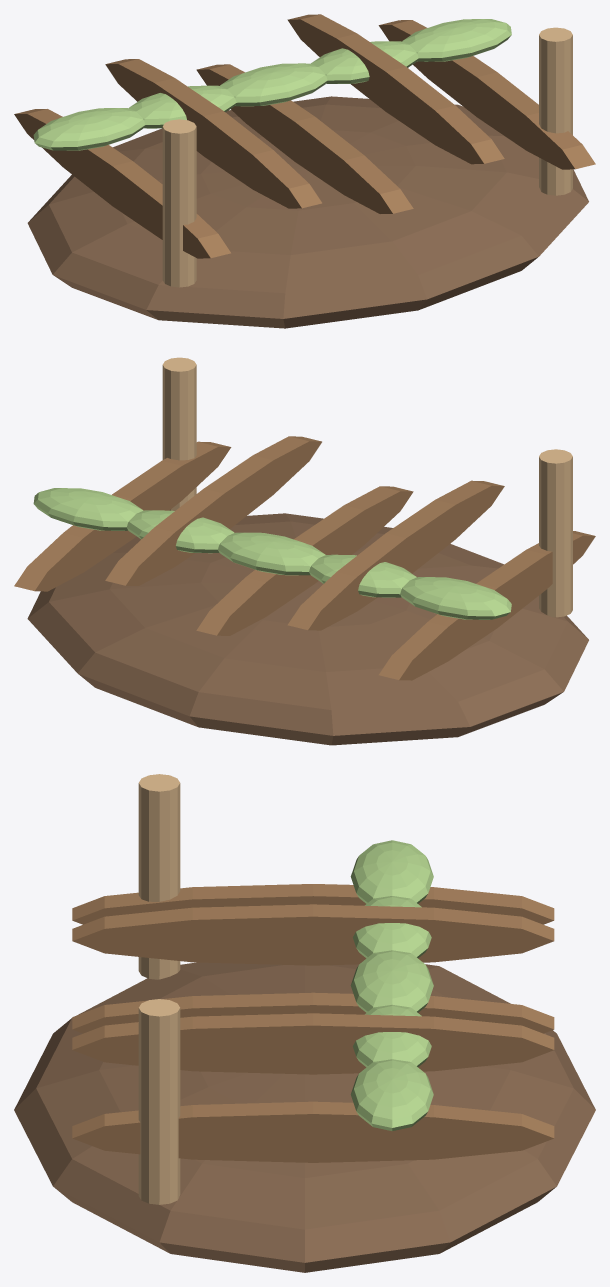
File: TwigYard3.fbx
3 views of the same model, one above another, from view 1: azimuth 30°, elevation 25°; view 2: azimuth 150°, elevation 25°; view 3: azimuth 270°, elevation 25° (orthographic). The views are drawn at different scales.
Visible parts, largest first — view 1: Worksite soil bed.004, Stacked twig.010, Stacked twig.008, Stacked twig.009, Stacked twig.011, Stacked twig.007, Yard fence.004, Yard fence.005, Twig leaf.007, Twig leaf.011, Twig leaf.009, Twig leaf.010 (+1 smaller); view 2: Worksite soil bed.004, Stacked twig.008, Stacked twig.010, Stacked twig.009, Stacked twig.011, Stacked twig.007, Yard fence.004, Yard fence.005, Twig leaf.007, Twig leaf.011, Twig leaf.009, Twig leaf.008 (+1 smaller); view 3: Worksite soil bed.004, Stacked twig.008, Stacked twig.011, Stacked twig.010, Yard fence.005, Stacked twig.007, Stacked twig.009, Yard fence.004, Twig leaf.011, Twig leaf.007, Twig leaf.009, Twig leaf.008 (+1 smaller).
Boxes of the visible parts, x1,y1,x2,y2 form: Worksite soil bed.004: (27, 96, 588, 328); Stacked twig.010: (287, 14, 504, 164); Stacked twig.008: (105, 59, 321, 208); Stacked twig.009: (196, 64, 413, 213); Stacked twig.011: (378, 20, 595, 169); Stacked twig.007: (14, 109, 230, 258); Yard fence.004: (162, 119, 196, 287); Yard fence.005: (539, 27, 572, 195); Twig leaf.007: (33, 108, 145, 150); Twig leaf.011: (402, 19, 511, 61); Twig leaf.009: (220, 63, 327, 106); Twig leaf.010: (311, 41, 418, 83); Worksite soil bed.004: (27, 513, 588, 745); Stacked twig.008: (287, 480, 504, 630); Stacked twig.010: (105, 436, 321, 585); Stacked twig.009: (196, 486, 413, 635); Stacked twig.011: (14, 441, 231, 591); Stacked twig.007: (379, 531, 595, 680); Yard fence.004: (539, 449, 572, 617); Yard fence.005: (162, 357, 196, 510); Twig leaf.007: (400, 577, 511, 619); Twig leaf.011: (33, 488, 143, 530); Twig leaf.009: (218, 532, 325, 575); Twig leaf.008: (309, 554, 416, 597); Worksite soil bed.004: (14, 962, 595, 1272); Stacked twig.008: (72, 904, 554, 965); Stacked twig.011: (72, 1101, 554, 1162); Stacked twig.010: (72, 1013, 554, 1074); Yard fence.005: (138, 999, 180, 1204); Stacked twig.007: (72, 884, 554, 924); Stacked twig.009: (72, 992, 554, 1033); Yard fence.004: (138, 774, 180, 979); Twig leaf.011: (350, 1059, 433, 1131); Twig leaf.007: (350, 840, 433, 903); Twig leaf.009: (350, 950, 433, 1012); Twig leaf.008: (353, 896, 431, 958).
Bounding box in the file's own units: 174 × 72 × 140.
